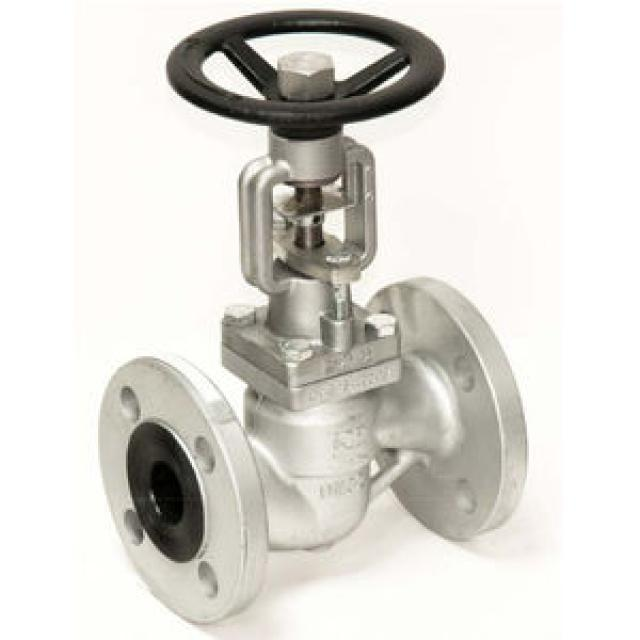Wheel Handle Valve Threaded: (163, 0, 463, 129)
